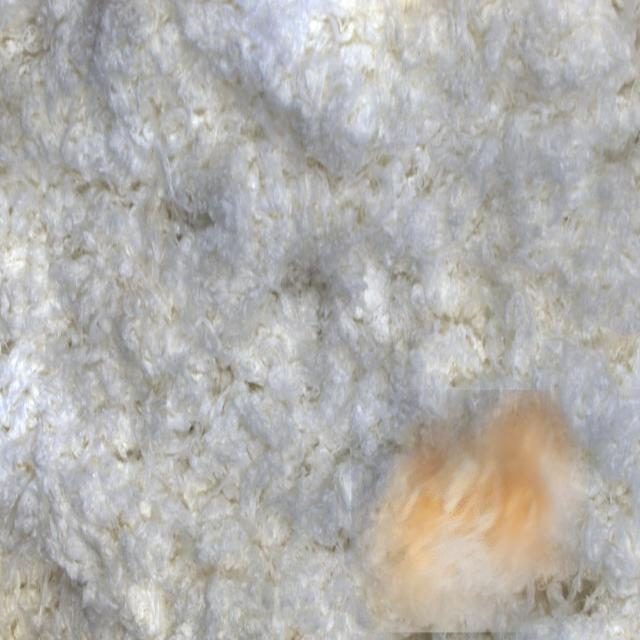dust: (351, 390, 589, 632)
